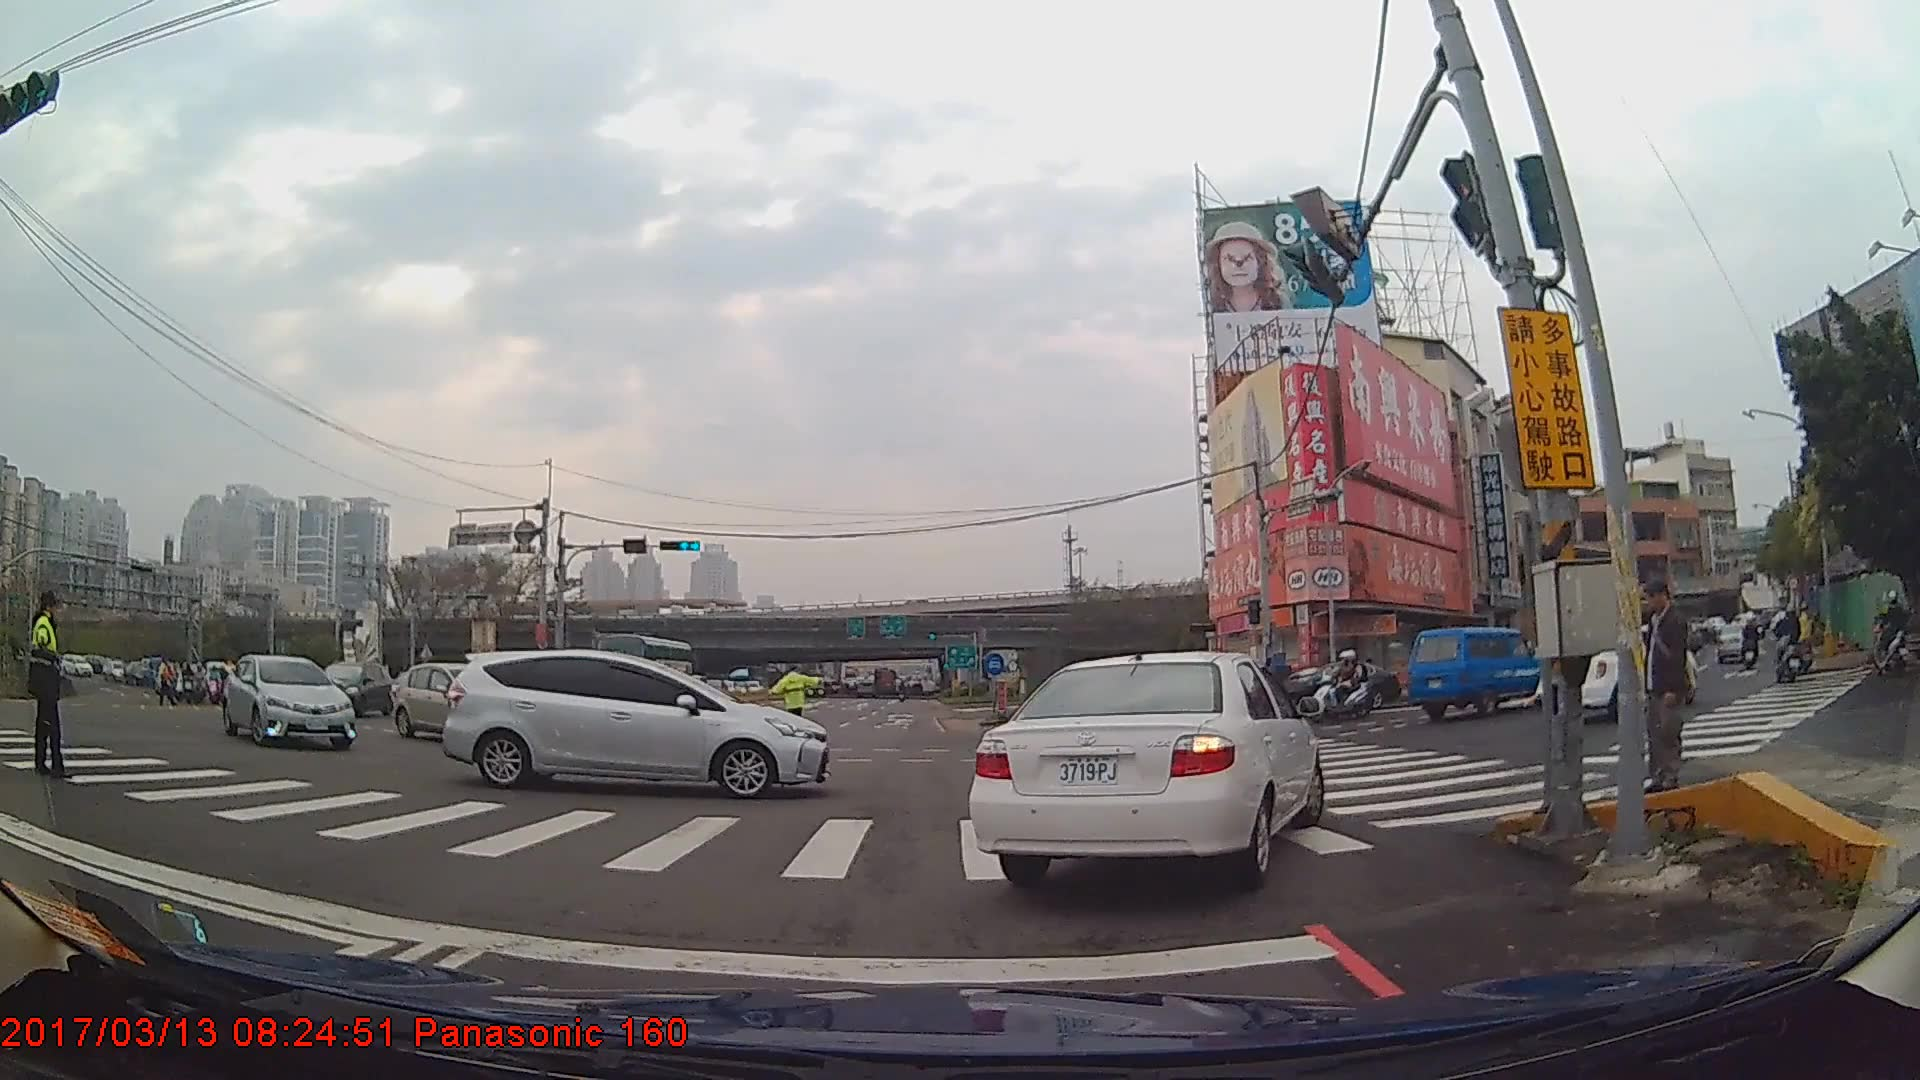pedestrian: (1632, 579, 1699, 799), (28, 586, 73, 783), (771, 658, 827, 743)
rider: (1307, 649, 1372, 724), (1868, 585, 1909, 679), (1774, 602, 1805, 681), (1794, 605, 1816, 679), (1740, 611, 1761, 673)
vehicle: (972, 644, 1326, 887), (440, 647, 827, 800), (1532, 621, 1697, 719), (1406, 625, 1556, 718), (218, 651, 354, 747), (387, 662, 518, 737), (316, 656, 392, 718), (1712, 620, 1755, 666)
